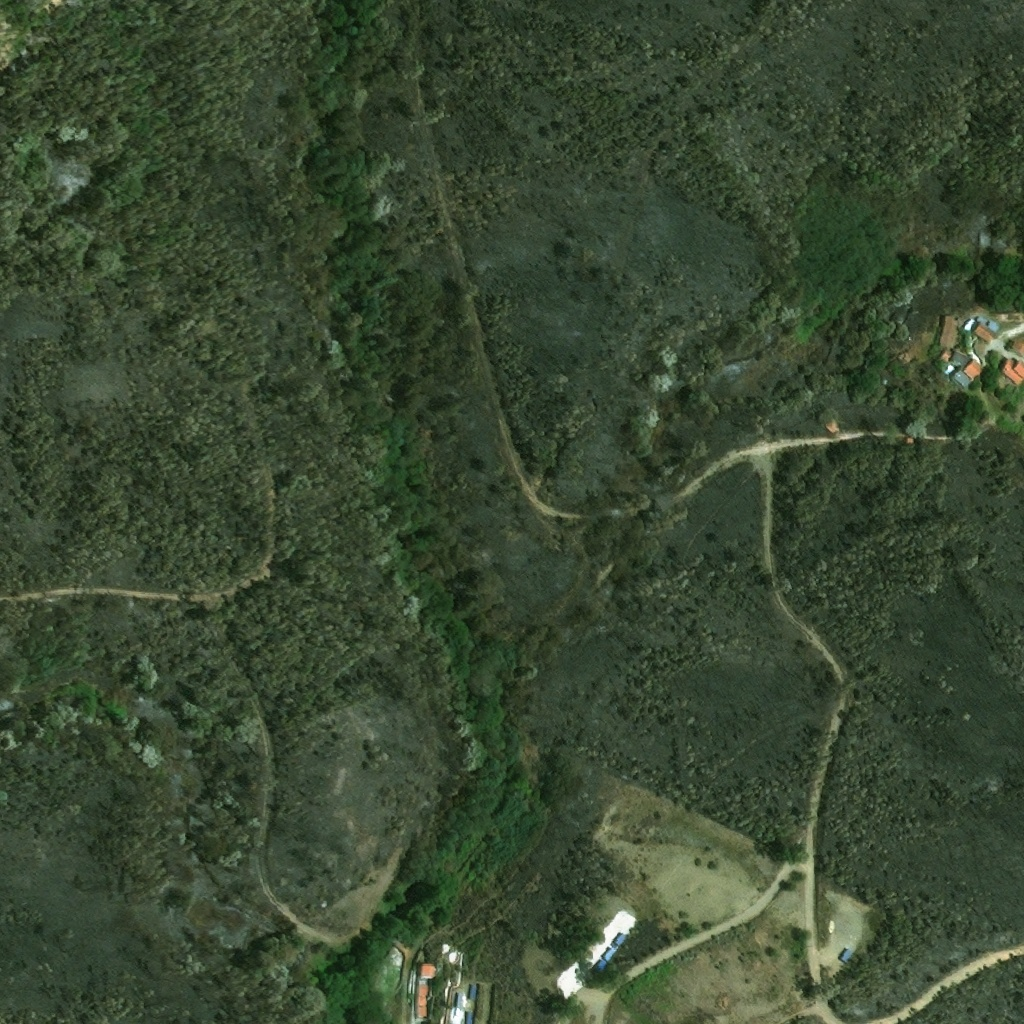0 no-damage: (942, 350, 983, 392), (415, 964, 437, 1023), (961, 315, 1001, 345), (1002, 358, 1023, 386), (934, 316, 952, 347), (836, 947, 854, 965), (999, 358, 1006, 373)
4 un-classified: (1007, 340, 1023, 359)
